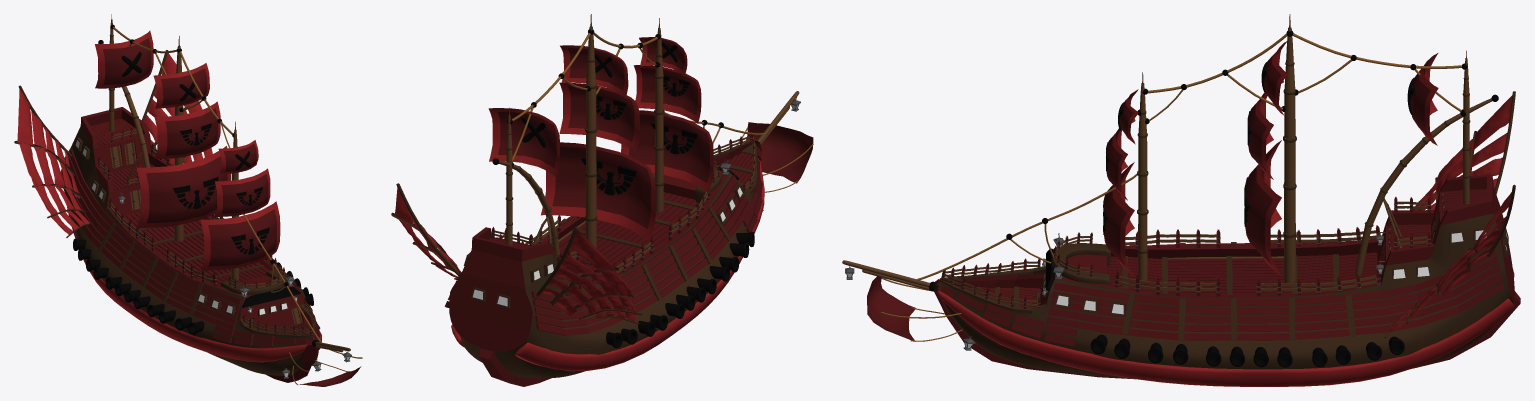
Rendered from tasarim6.glb.
3 views of the same model, side by side, from view 1: azimuth 30°, elevation 25°; view 2: azimuth 150°, elevation 25°; view 3: azimuth 270°, elevation 25° (orthographic). The views are drawn at different scales.
Parts seen in each view (by area): view 1: Cube, Cube.059, Cylinder.006, Cube.008, Plane.003, Cube.067, Plane.002, cannon.008, Plane.004, Cube.021, Plane.005, Plane.010 (+31 smaller); view 2: Cube, Cube.059, Cylinder.006, Cube.008, Plane.003, Cube.067, Plane.002, cannon.008, Plane, Cylinder.009, Cube.047, Plane.004 (+24 smaller); view 3: Cube.059, Cube.008, Cube, Cube.067, Cube.021, Cylinder.006, Cube.047, cannon.008, Cube.009, Cylinder.009, Cube.119, Cylinder.011 (+23 smaller).
Boxes of the visible parts, box(x1,y1,x2,y2) form: Cube: box(80, 107, 319, 382); Cube.059: box(60, 149, 309, 330); Cylinder.006: box(17, 53, 212, 234); Cube.008: box(64, 145, 318, 375); Plane.003: box(146, 156, 227, 223); Cube.067: box(67, 207, 321, 362); Plane.002: box(208, 209, 276, 266); cannon.008: box(73, 238, 313, 334); Plane.004: box(165, 108, 217, 155); Cube.021: box(80, 232, 215, 341); Plane.005: box(103, 38, 151, 84); Plane.010: box(136, 146, 231, 227); Cube: box(449, 141, 762, 386); Cube.059: box(444, 175, 751, 335); Cylinder.006: box(395, 187, 636, 321); Cube.008: box(454, 145, 757, 378); Plane.003: box(552, 146, 651, 228); Cube.067: box(451, 157, 764, 371); Plane.002: box(628, 114, 709, 182); cannon.008: box(606, 231, 754, 347); Plane: box(745, 122, 813, 183); Cylinder.009: box(585, 14, 596, 262); Cube.047: box(559, 219, 677, 268); Plane.004: box(568, 86, 634, 141); Cube.059: box(1046, 241, 1504, 340); Cube.008: box(938, 240, 1513, 379); Cube: box(934, 174, 1520, 378); Cube.067: box(938, 268, 1514, 386); Cube.021: box(1074, 330, 1411, 369); Cylinder.006: box(1388, 95, 1513, 333); Cube.047: box(1167, 258, 1291, 295); cannon.008: box(1090, 334, 1404, 367); Cube.009: box(1377, 213, 1500, 308); Cylinder.009: box(1284, 14, 1295, 283); Cube.119: box(1118, 230, 1377, 291); Cylinder.011: box(1138, 72, 1147, 280).
Bounding box in the file's own units: 4.36 × 6.17 × 10.44.
